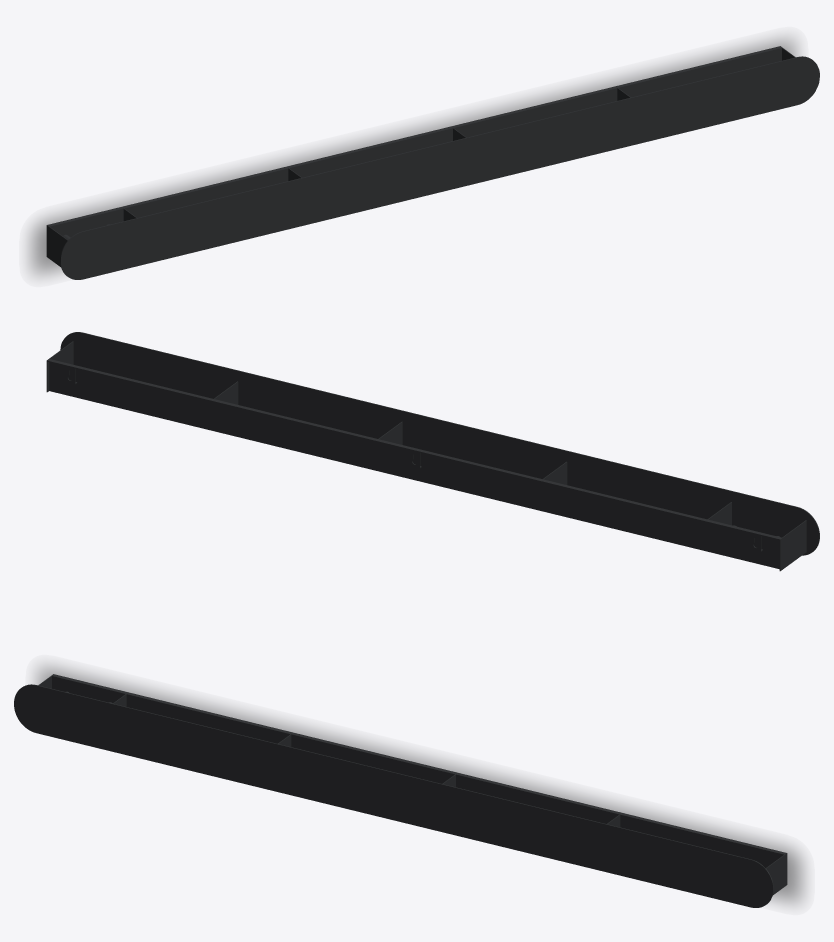
File: round-patron.fc40575b38.ar.glb
3 renders of one model, top to bottom at view 1: azimuth 30°, elevation 25°; view 2: azimuth 150°, elevation 25°; view 3: azimuth 330°, elevation 25°, orthographic.
Parts seen in each view (by area): view 1: NAUO1, object 2; view 2: NAUO1; view 3: NAUO1, object 2.
Part boxes in pixels (x1,y1,x2,y2): NAUO1: (46, 46, 819, 279); object 2: (29, 38, 798, 275); NAUO1: (46, 332, 819, 571); NAUO1: (14, 674, 787, 907); object 2: (35, 666, 804, 903).
Bounding box in the file's own units: 1.58 × 0.17 × 0.092.
2 materials, 1 textured.
